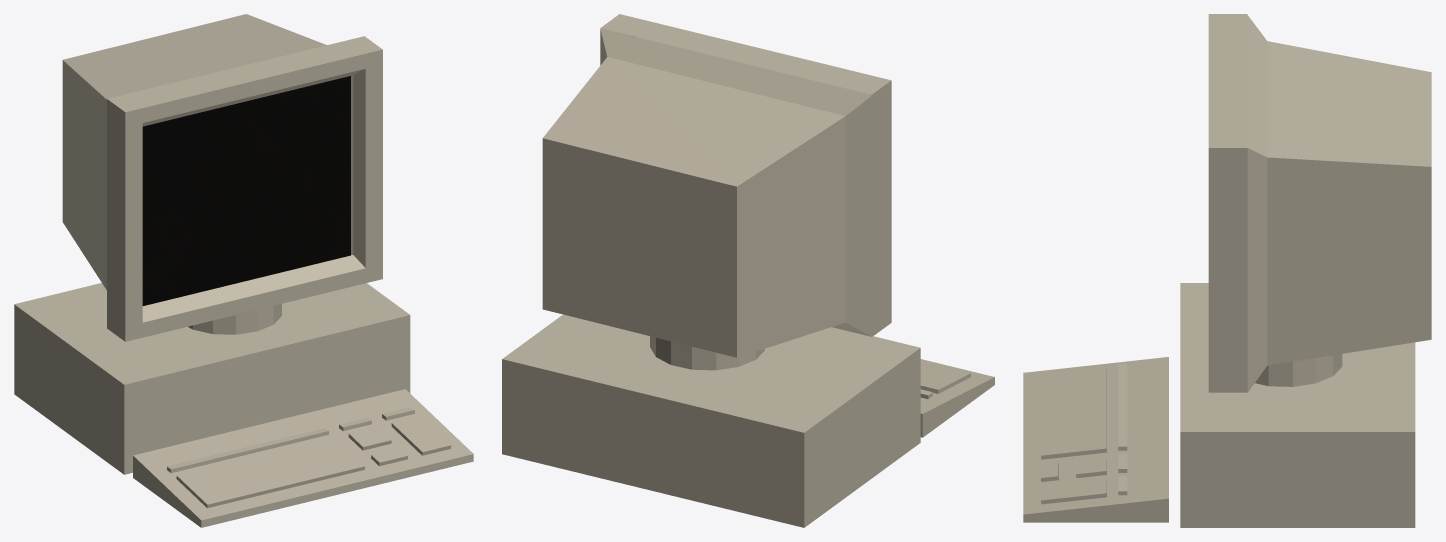
Rendered from computer3.glb.
The picture shows the model from 3 angles, left to right: view 1: azimuth 30°, elevation 25°; view 2: azimuth 150°, elevation 25°; view 3: azimuth 270°, elevation 25°; orthographic projection. The views are drawn at different scales.
Visible parts, largest first — view 1: computer, screen; view 2: computer; view 3: computer.
Part boxes in pixels (x1,y1,x2,y2): computer: (14,14,473,527); screen: (142,76,350,305); computer: (502,14,994,527); computer: (1023,14,1431,527).
Size of the model in its own units: 50.69 by 59.14 by 58.77.
2 materials, 1 textured.
